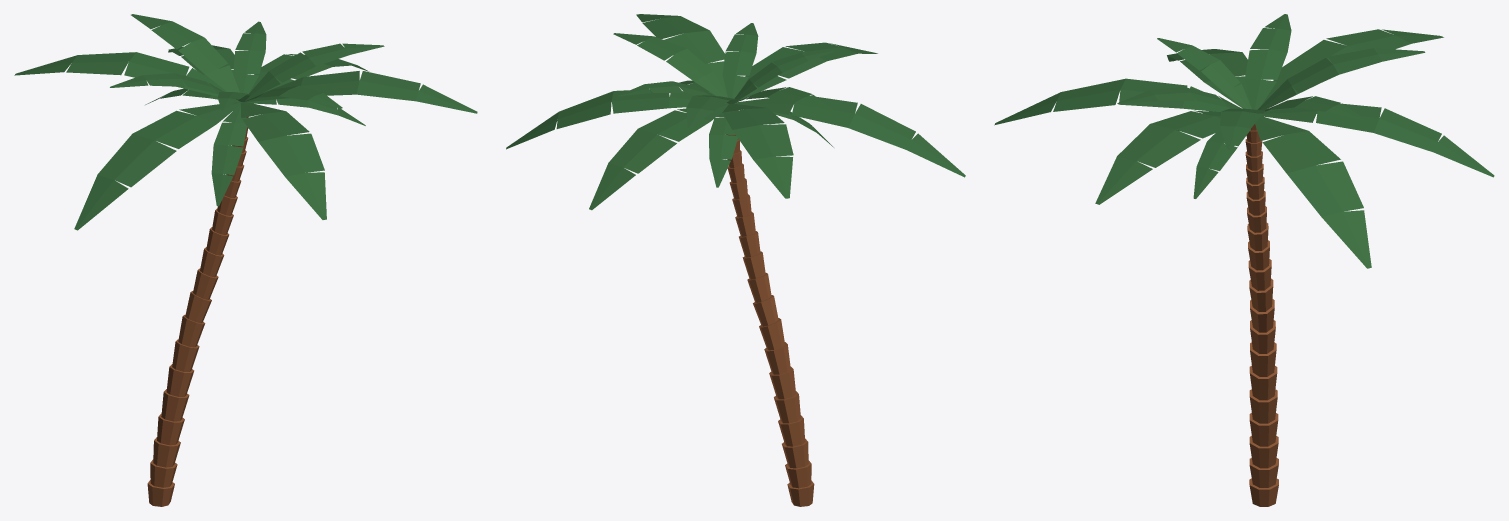
File: palm_tree.fbx
3 views of the same model, side by side, from view 1: azimuth 30°, elevation 25°; view 2: azimuth 150°, elevation 25°; view 3: azimuth 270°, elevation 25° (orthographic). The views are drawn at different scales.
Parts seen in each view (by area): view 1: Plane.001, Cube.000; view 2: Plane.001, Cube.000; view 3: Plane.001, Cube.000.
Part boxes in pixels (x1,y1,x2,y2): Plane.001: (14,14,477,230); Cube.000: (147,117,248,506); Plane.001: (506,14,965,210); Cube.000: (724,110,814,506); Plane.001: (994,14,1494,268); Cube.000: (1245,124,1278,506).
Size of the model in its own units: 373 by 398 by 379.
